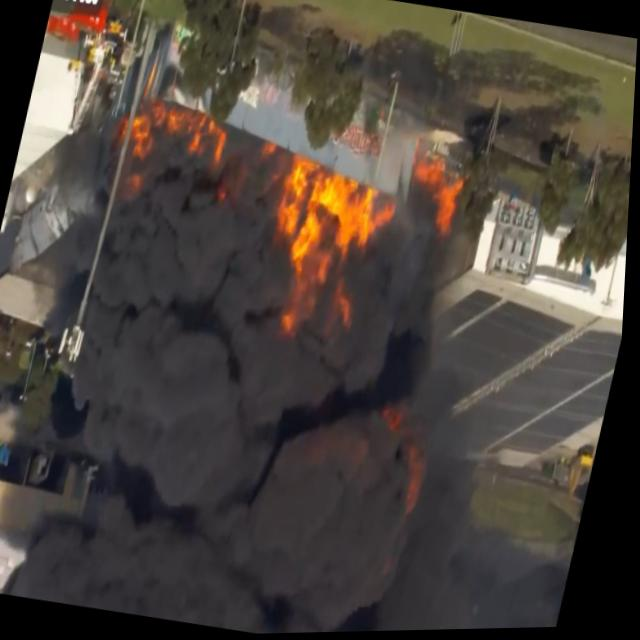Fire: (247, 160, 399, 352), (182, 114, 237, 166), (122, 109, 165, 170)
